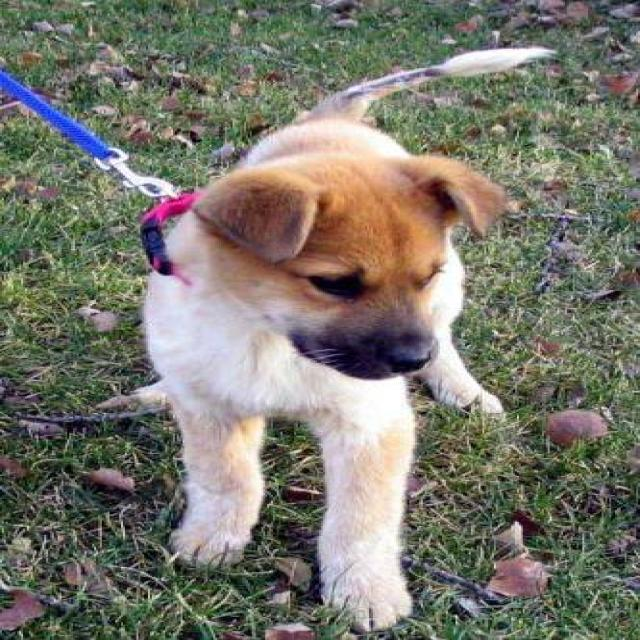dog: (89, 45, 552, 633)
